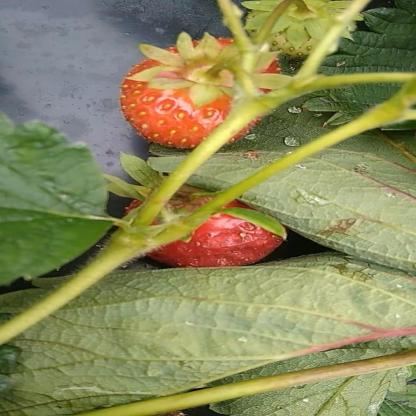ripe: (114, 45, 295, 153), (119, 183, 282, 271)
unripe: (234, 2, 354, 56)
